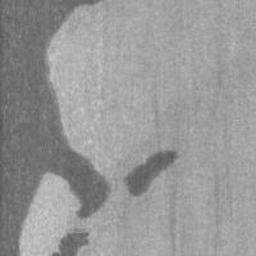Water spot: (0, 0, 113, 256), (123, 148, 179, 198), (50, 225, 92, 256)
